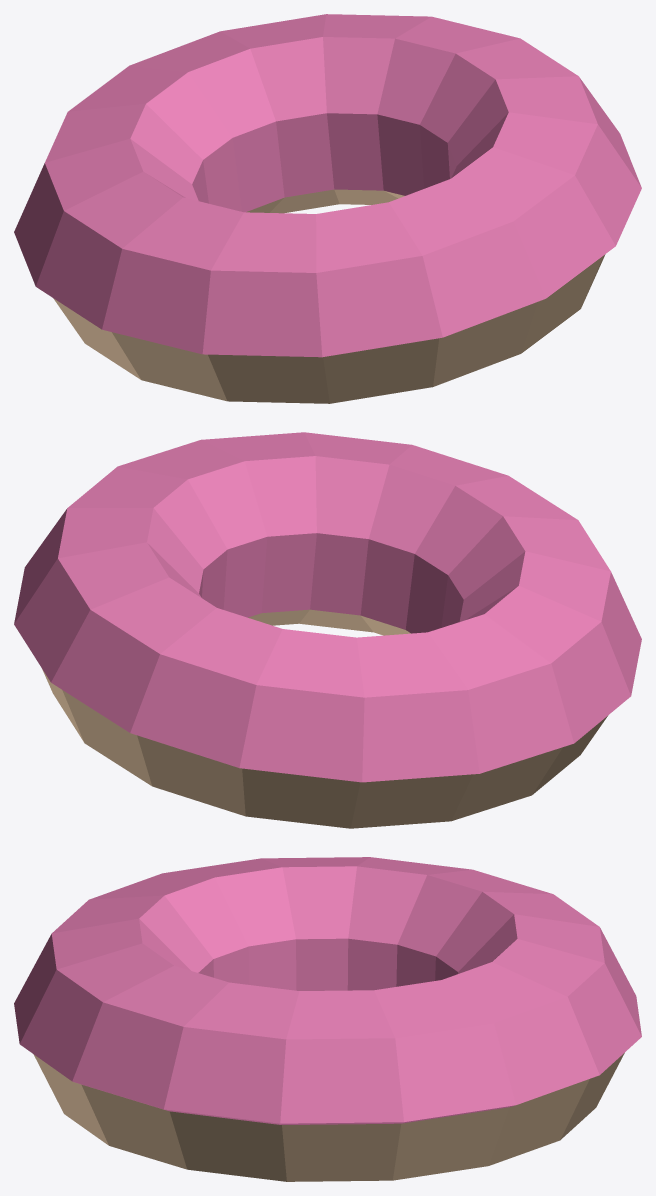
The model's file is donut1.fbx.
The picture shows the model from 3 angles, top to bottom: view 1: azimuth 30°, elevation 25°; view 2: azimuth 150°, elevation 25°; view 3: azimuth 270°, elevation 25°; orthographic projection.
Visible parts, largest first — view 1: donut1; view 2: donut1; view 3: donut1.
Boxes of the visible parts, x1,y1,x2,y2 form: donut1: (14, 14, 641, 403); donut1: (14, 432, 641, 828); donut1: (14, 857, 641, 1181).
Size of the model in its own units: 11.9 by 4.37 by 11.96.
